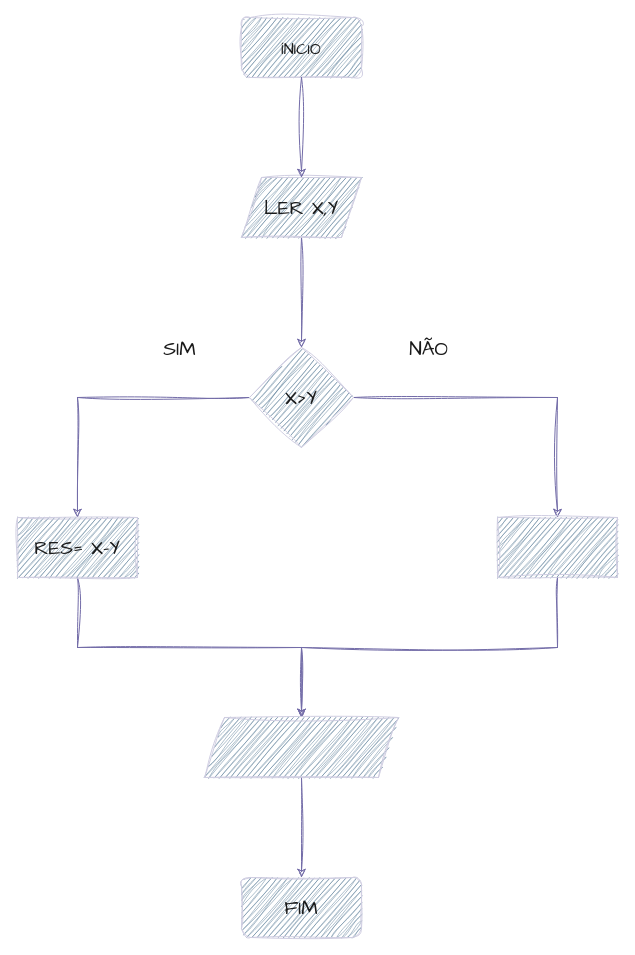
This 635x955 diagram has some shape labels left out. The centre of each missing label's shape, as x and y in pixels:
ESCREVER RES: [301,747]
RES= Y-X: [557,547]
